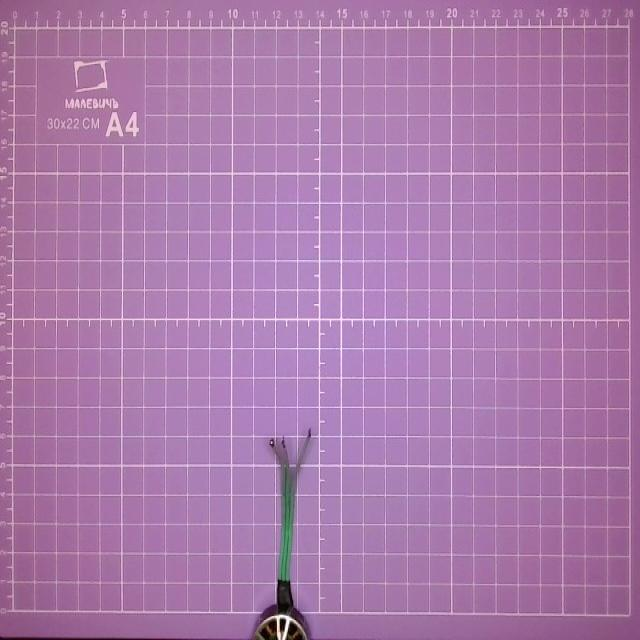motor: (251, 416, 314, 640)
